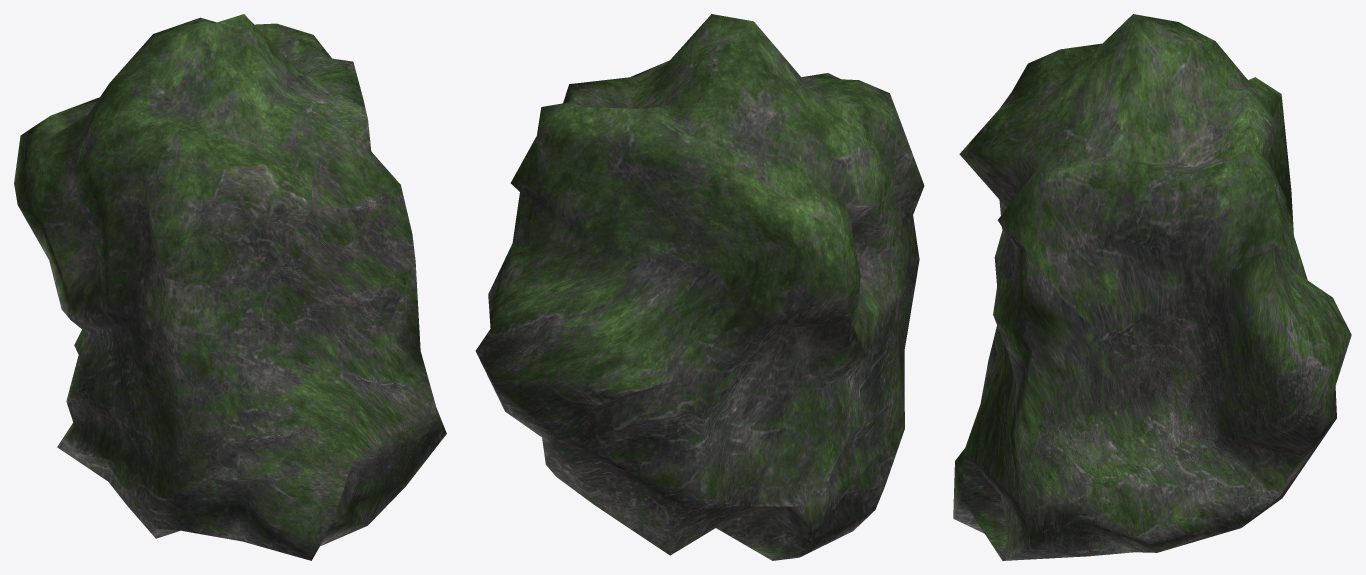
File: low_poly_rock_1.glb
The picture shows the model from 3 angles, left to right: view 1: azimuth 30°, elevation 25°; view 2: azimuth 150°, elevation 25°; view 3: azimuth 270°, elevation 25°; orthographic projection. The views are drawn at different scales.
Parts seen in each view (by area): view 1: Rock_low; view 2: Rock_low; view 3: Rock_low.
Boxes of the visible parts, x1=… form: Rock_low: x1=14, y1=14, x2=446, y2=560; Rock_low: x1=475, y1=14, x2=924, y2=560; Rock_low: x1=953, y1=14, x2=1351, y2=560.
Size of the model in its own units: 1.39 by 2 by 1.4.
Materials: 1 (1 with a texture image).
